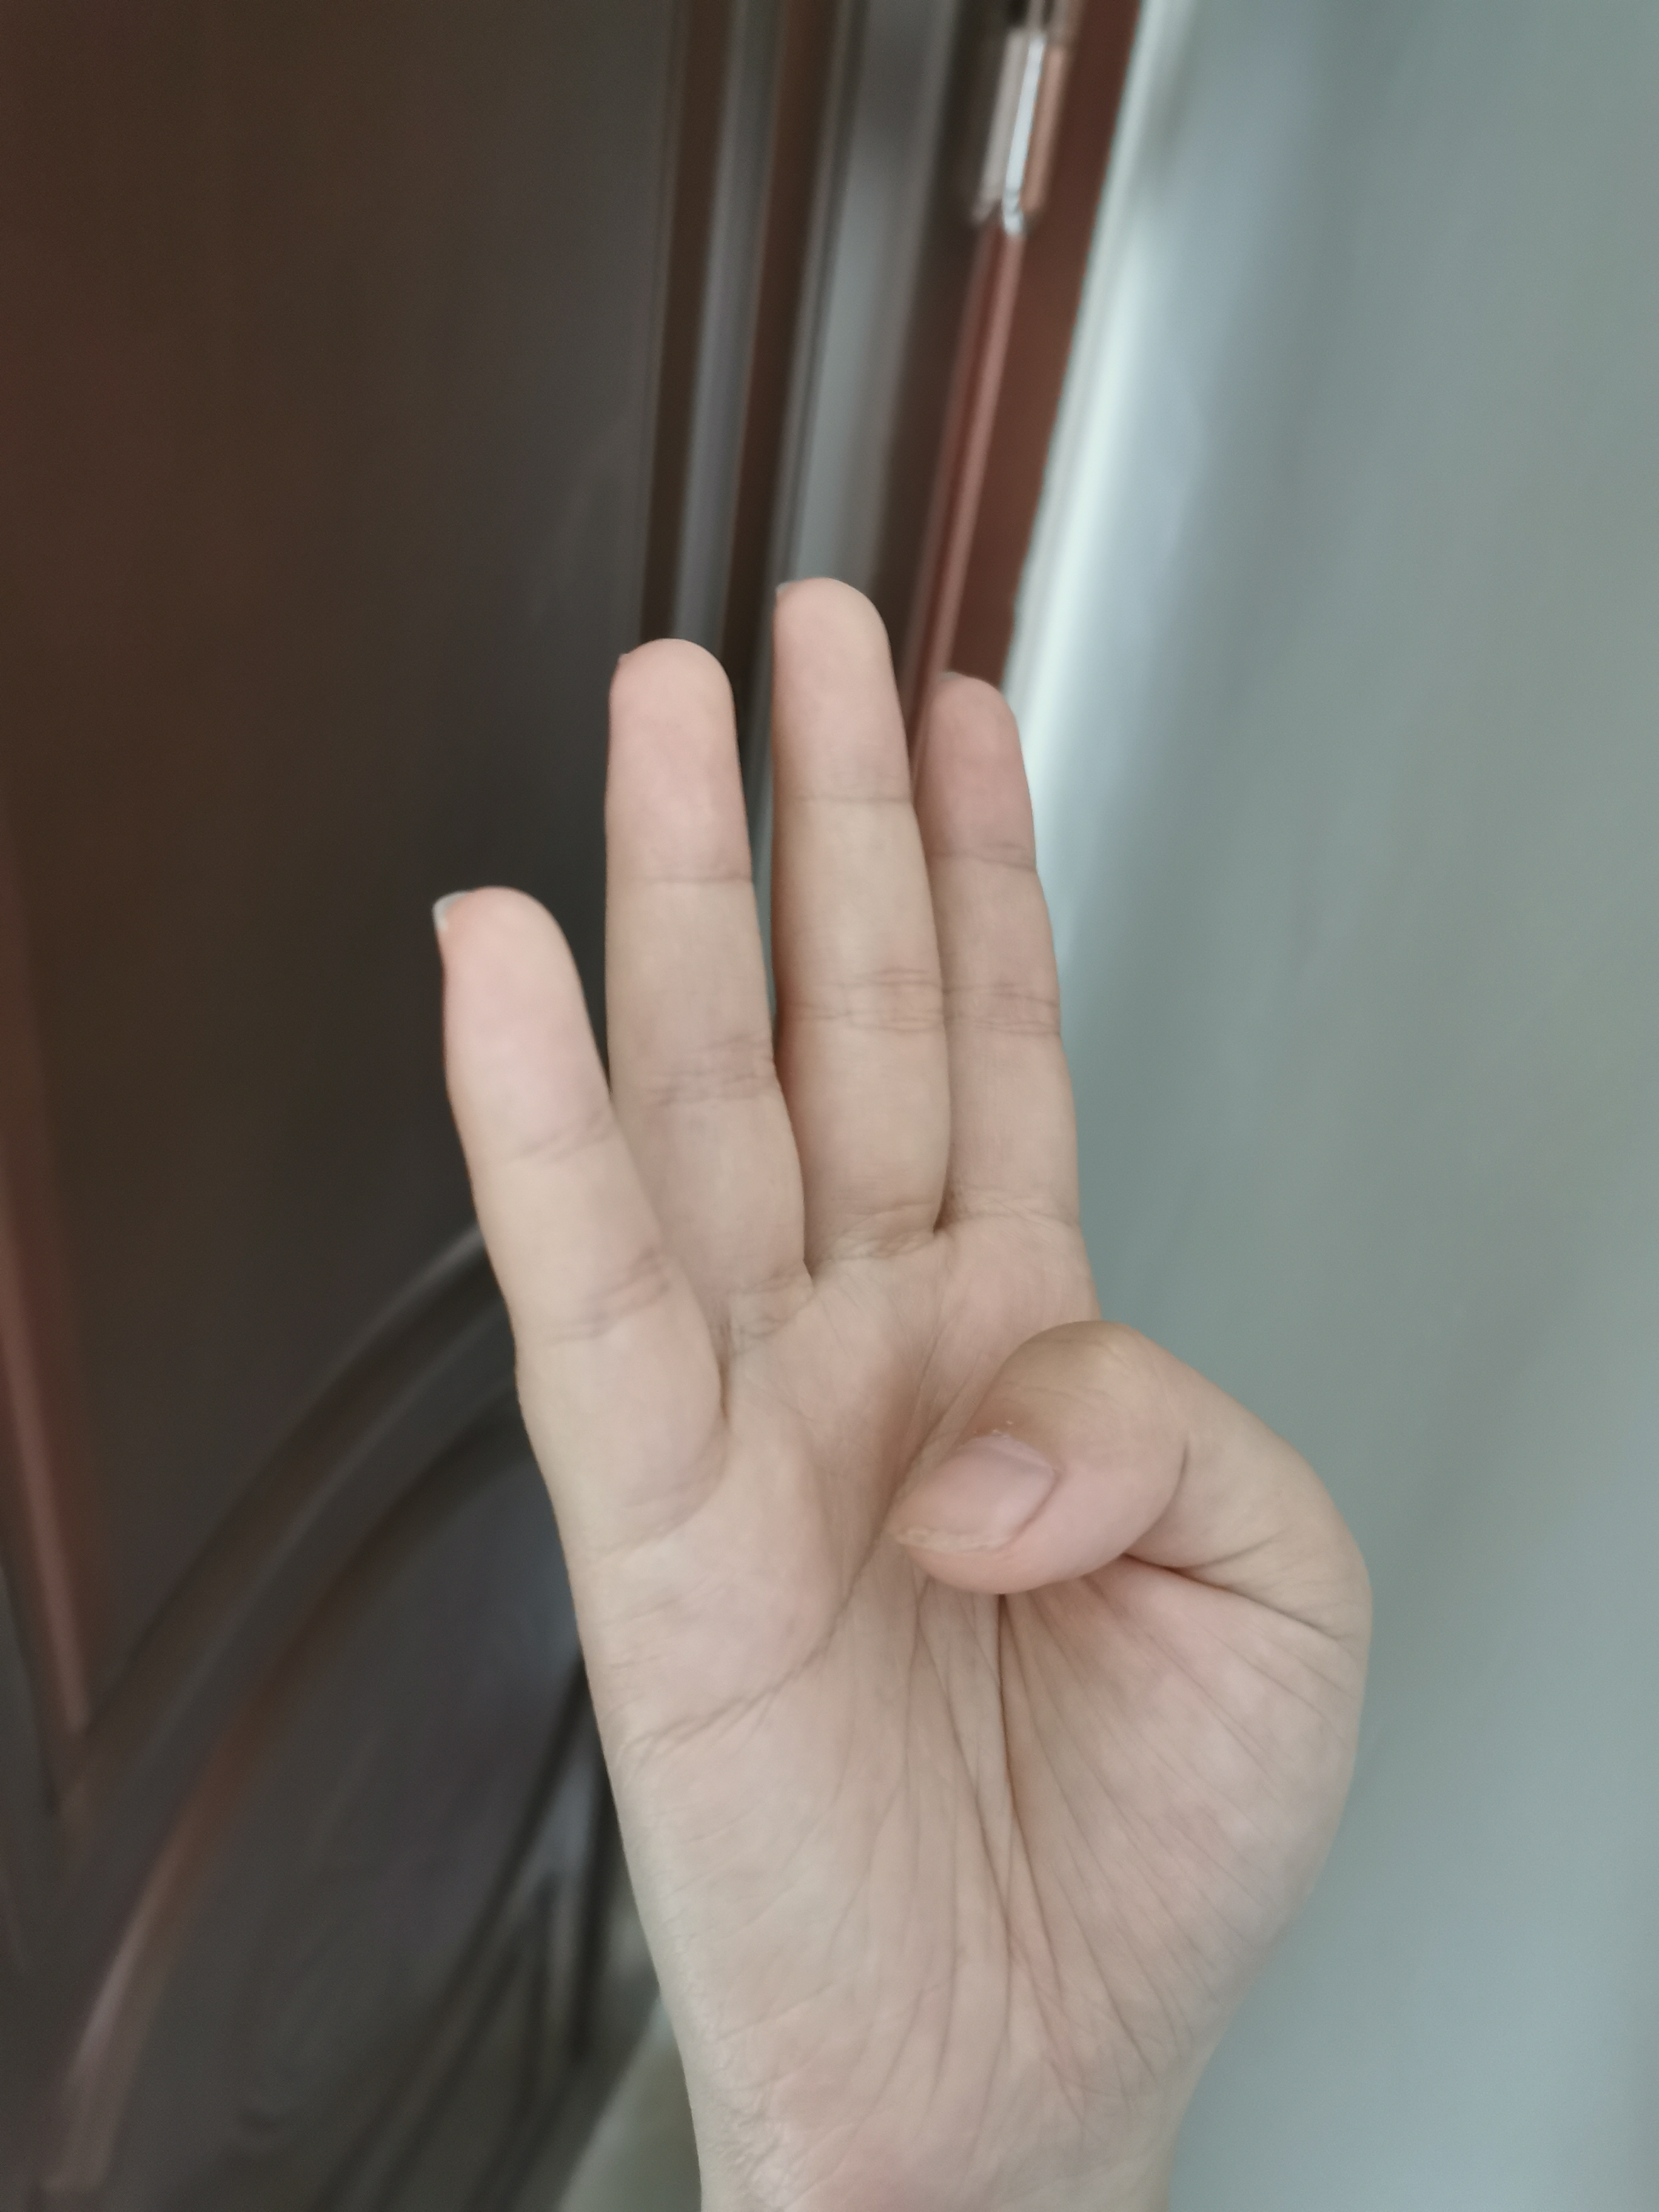right: (423, 577, 1384, 2170)
